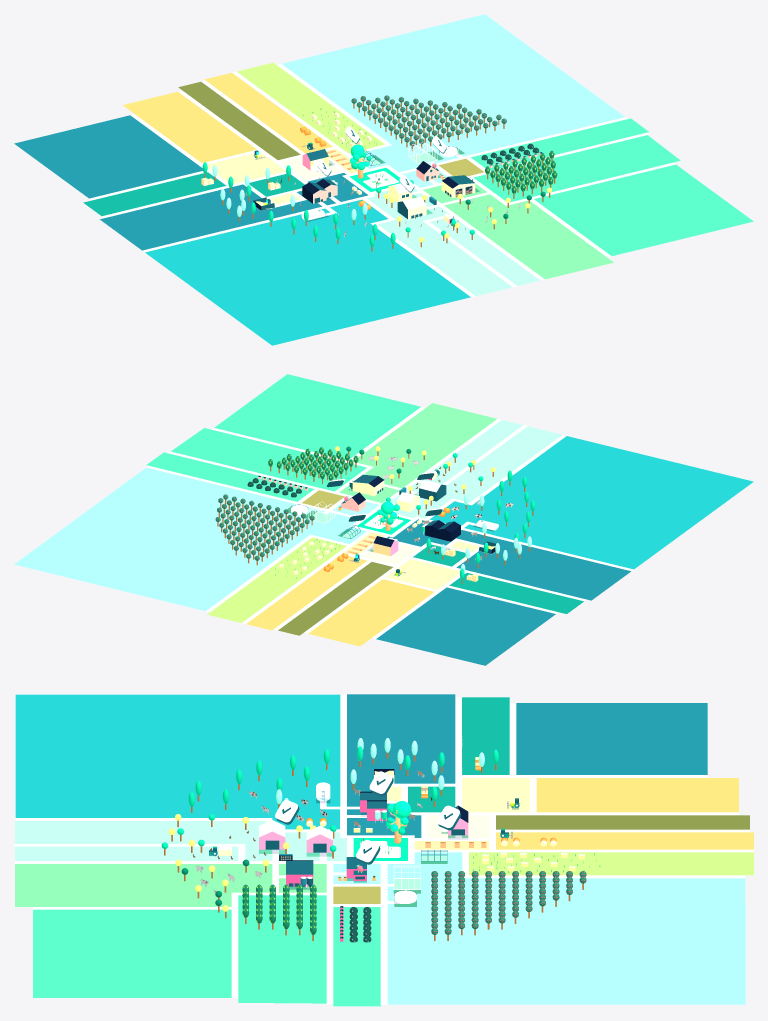
The model's file is boerderleren_201021--checkmark-names.gltf.
The picture shows the model from 3 angles, top to bottom: view 1: azimuth 30°, elevation 25°; view 2: azimuth 150°, elevation 25°; view 3: azimuth 270°, elevation 25°; orthographic projection. The views are drawn at different scales.
Visible parts, largest first — view 1: horticulture-farm_grass.009, dairy-farm_grass.015, horticulture-farm_grass.013, dairy-farm_grass.016, roads, agriculture-farm_grass.004, livestock-farm_grass.002, livestock-farm_grass.001, agriculture-farm_grass.007, dairy-farm_grass.002, agriculture-farm_grass.005, agriculture-farm_grass.003 (+2 smaller); view 2: horticulture-farm_grass.009, dairy-farm_grass.015, horticulture-farm_grass.013, dairy-farm_grass.016, roads, agriculture-farm_grass.004, livestock-farm_grass.002, livestock-farm_grass.001, agriculture-farm_grass.007, dairy-farm_grass.002, agriculture-farm_grass.005, agriculture-farm_grass.003 (+3 smaller); view 3: horticulture-farm_grass.009, dairy-farm_grass.015, horticulture-farm_grass.013, dairy-farm_grass.016, roads, agriculture-farm_grass.004, livestock-farm_grass.002, livestock-farm_grass.001, agriculture-farm_grass.007, dairy-farm_grass.002, agriculture-farm_grass.005, agriculture-farm_grass.003 (+9 smaller).
Part boxes in pixels (x1,y1,x2,y2): horticulture-farm_grass.009: [282, 14, 624, 172]; dairy-farm_grass.015: [145, 199, 470, 345]; horticulture-farm_grass.013: [471, 118, 753, 255]; dairy-farm_grass.016: [14, 115, 367, 250]; roads: [89, 64, 675, 297]; agriculture-farm_grass.004: [123, 72, 332, 162]; livestock-farm_grass.002: [423, 183, 613, 279]; livestock-farm_grass.001: [367, 188, 539, 296]; agriculture-farm_grass.007: [237, 62, 384, 153]; dairy-farm_grass.002: [83, 172, 304, 215]; agriculture-farm_grass.005: [178, 82, 300, 159]; agriculture-farm_grass.003: [207, 151, 299, 204]; horticulture-farm_grass.009: [14, 467, 366, 611]; dairy-farm_grass.015: [430, 436, 753, 569]; horticulture-farm_grass.013: [146, 374, 420, 501]; dairy-farm_grass.016: [376, 519, 630, 665]; roads: [146, 407, 633, 638]; agriculture-farm_grass.004: [246, 554, 434, 646]; livestock-farm_grass.002: [339, 403, 496, 502]; livestock-farm_grass.001: [380, 420, 562, 518]; agriculture-farm_grass.007: [207, 537, 346, 622]; dairy-farm_grass.002: [413, 544, 583, 613]; agriculture-farm_grass.005: [278, 562, 392, 635]; agriculture-farm_grass.003: [385, 541, 478, 589]; horticulture-farm_grass.009: [387, 852, 745, 1004]; dairy-farm_grass.015: [15, 694, 340, 829]; horticulture-farm_grass.013: [33, 895, 380, 1006]; dairy-farm_grass.016: [347, 694, 707, 837]; roads: [14, 694, 753, 1004]; agriculture-farm_grass.004: [496, 778, 753, 849]; livestock-farm_grass.002: [15, 864, 326, 906]; livestock-farm_grass.001: [15, 821, 346, 860]; agriculture-farm_grass.007: [469, 852, 753, 875]; dairy-farm_grass.002: [408, 697, 509, 812]; agriculture-farm_grass.005: [496, 815, 749, 829]; agriculture-farm_grass.003: [387, 778, 529, 812].
Bounding box in the file's own units: 5473 × 365 × 5485.
130 materials, 39 textured.
